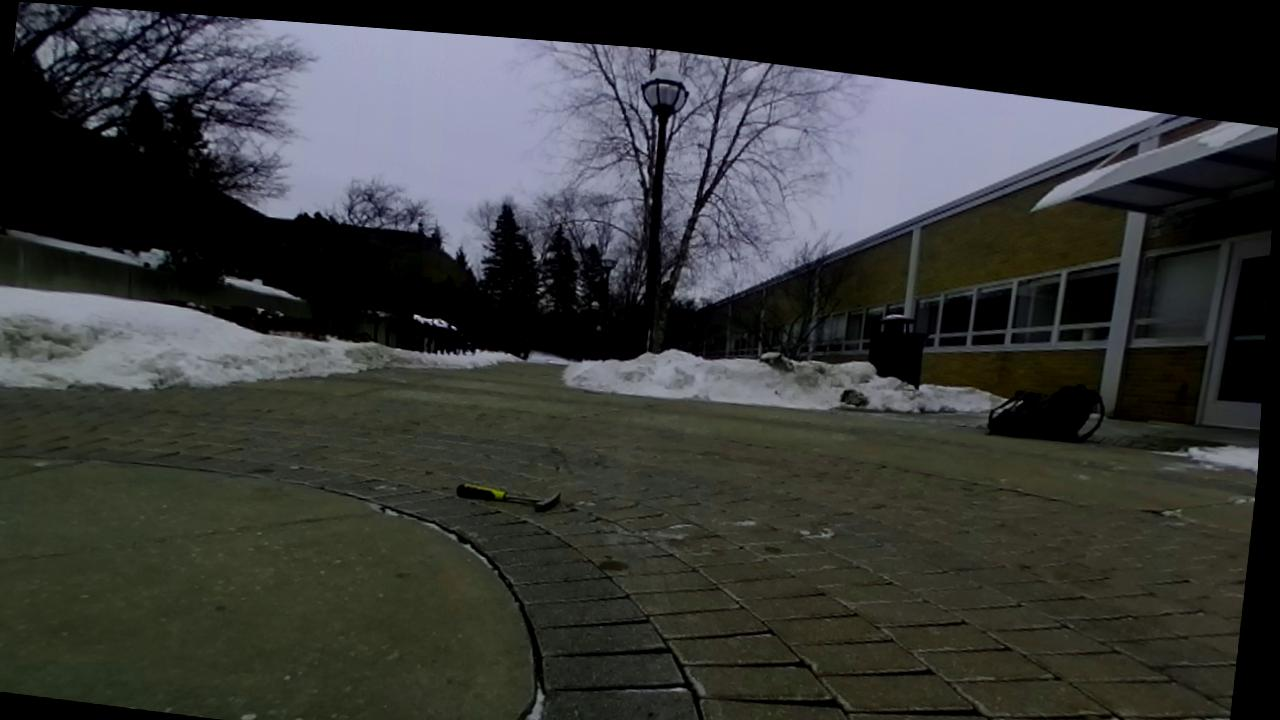pick: (456, 484, 559, 511)
